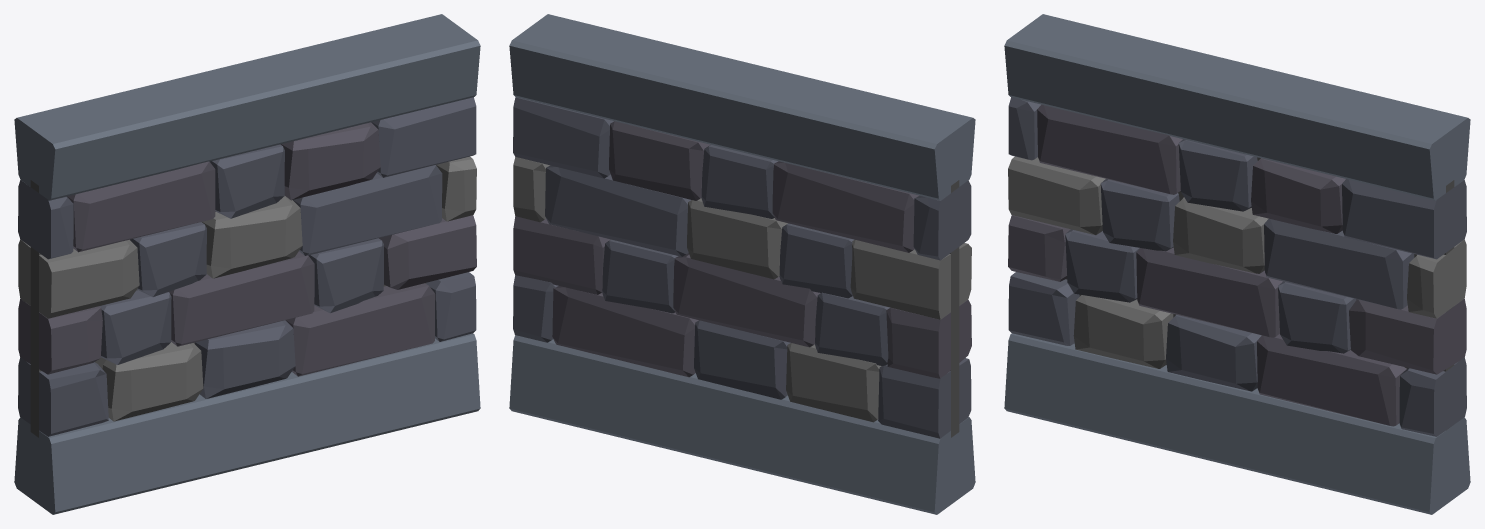
The model's file is Wall.fbx.
The picture shows the model from 3 angles, left to right: view 1: azimuth 30°, elevation 25°; view 2: azimuth 150°, elevation 25°; view 3: azimuth 330°, elevation 25°; orthographic projection.
Visible parts, largest first — view 1: Muro; view 2: Muro; view 3: Muro.
Part boxes in pixels (x1,y1,x2,y2): Muro: (14,14,480,514); Muro: (509,14,975,514); Muro: (1004,14,1470,514).
Size of the model in its own units: 600 by 500 by 100.
